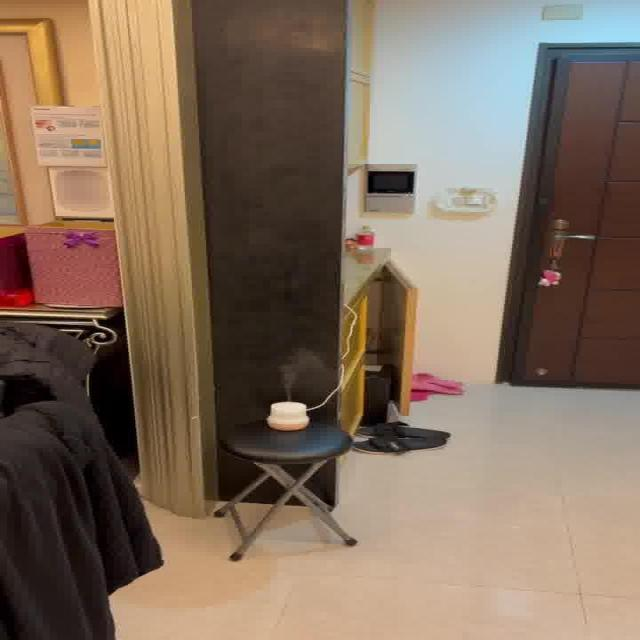fire: (274, 350, 322, 397)
